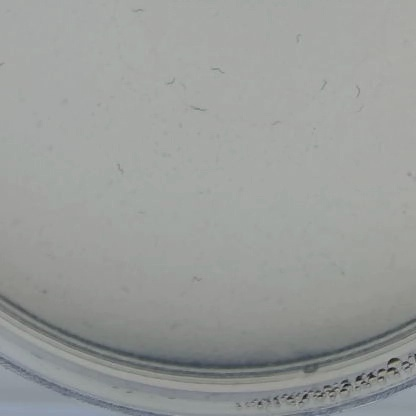worm: (203, 60, 229, 82), (183, 99, 211, 119), (311, 73, 333, 96), (160, 71, 180, 93), (125, 5, 150, 19), (186, 272, 211, 286), (113, 161, 131, 177), (290, 31, 307, 46), (269, 117, 290, 128), (350, 81, 362, 99), (352, 100, 368, 113), (284, 76, 302, 87), (404, 166, 416, 181)
